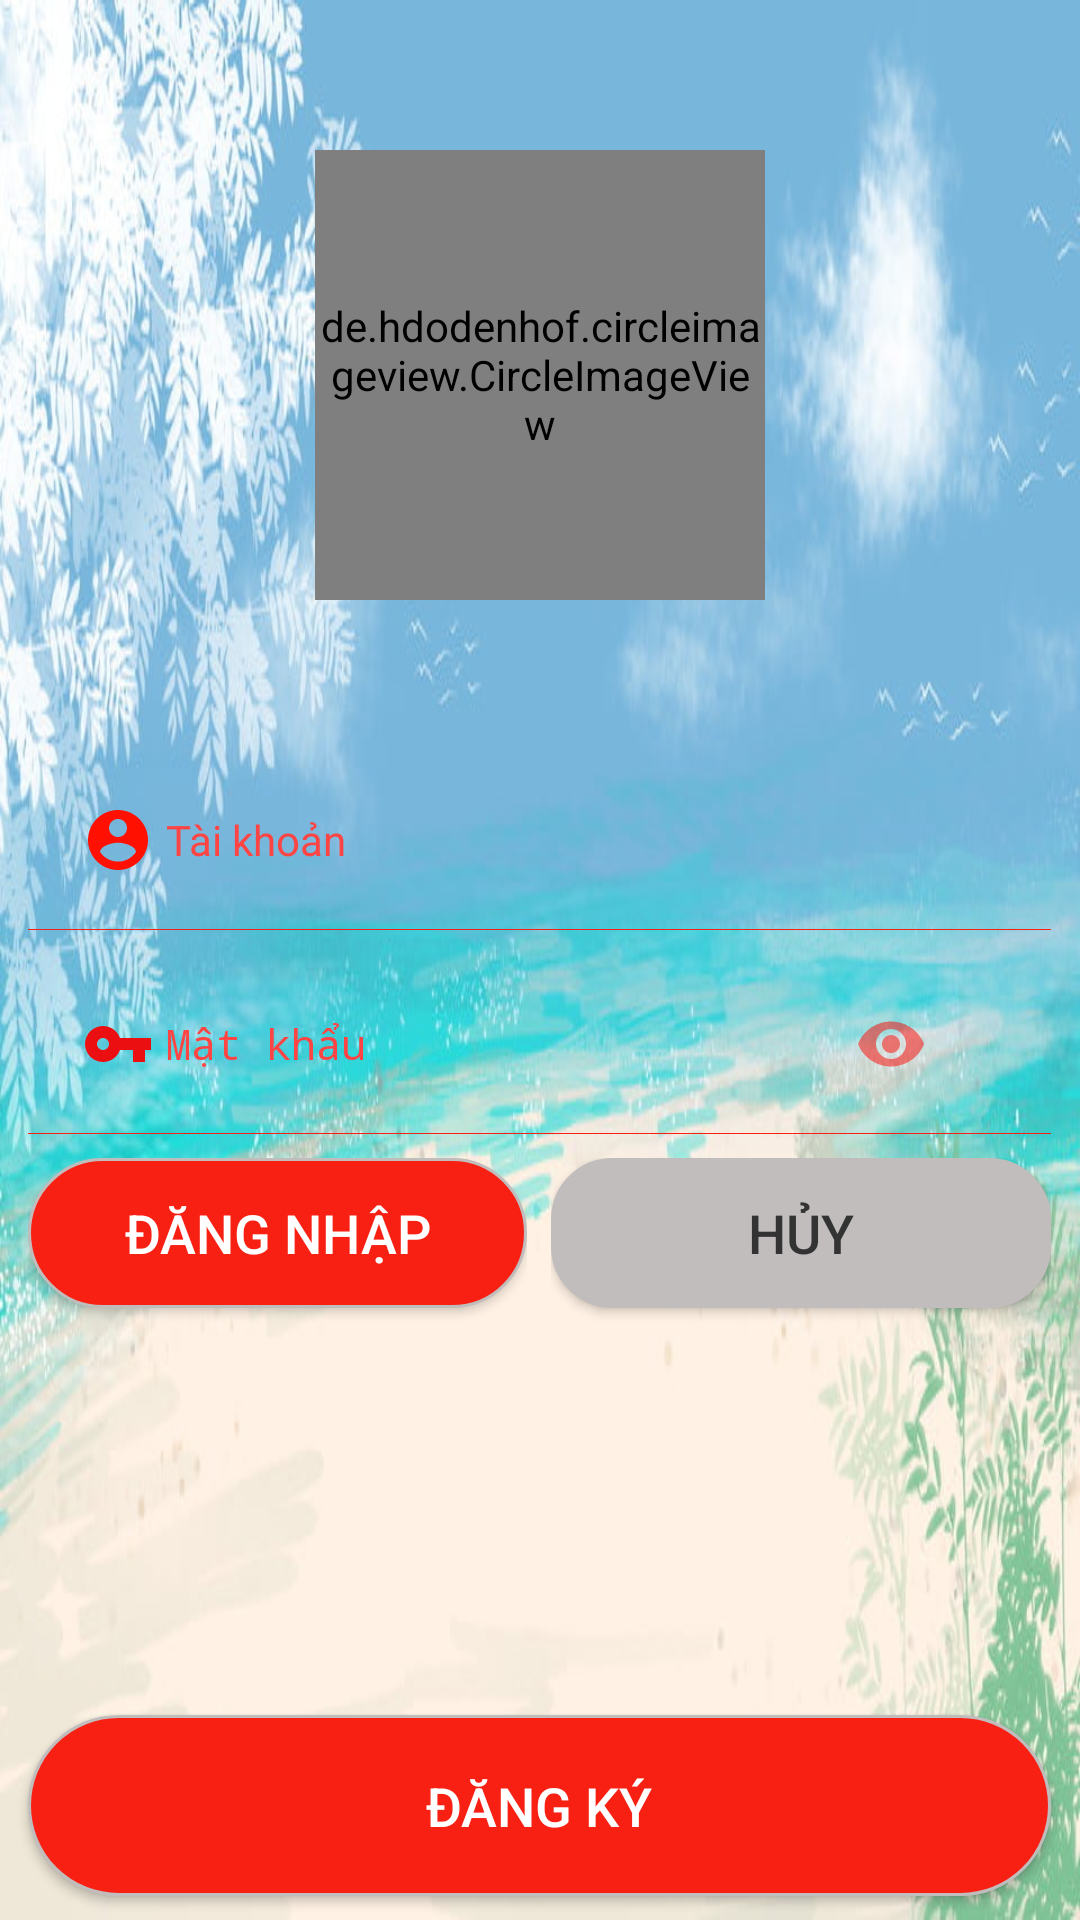

Point at icon controls on the screen. Image size 1080px×1920px, points as (x=x, y=y).
visibility: (x=891, y=1044)
